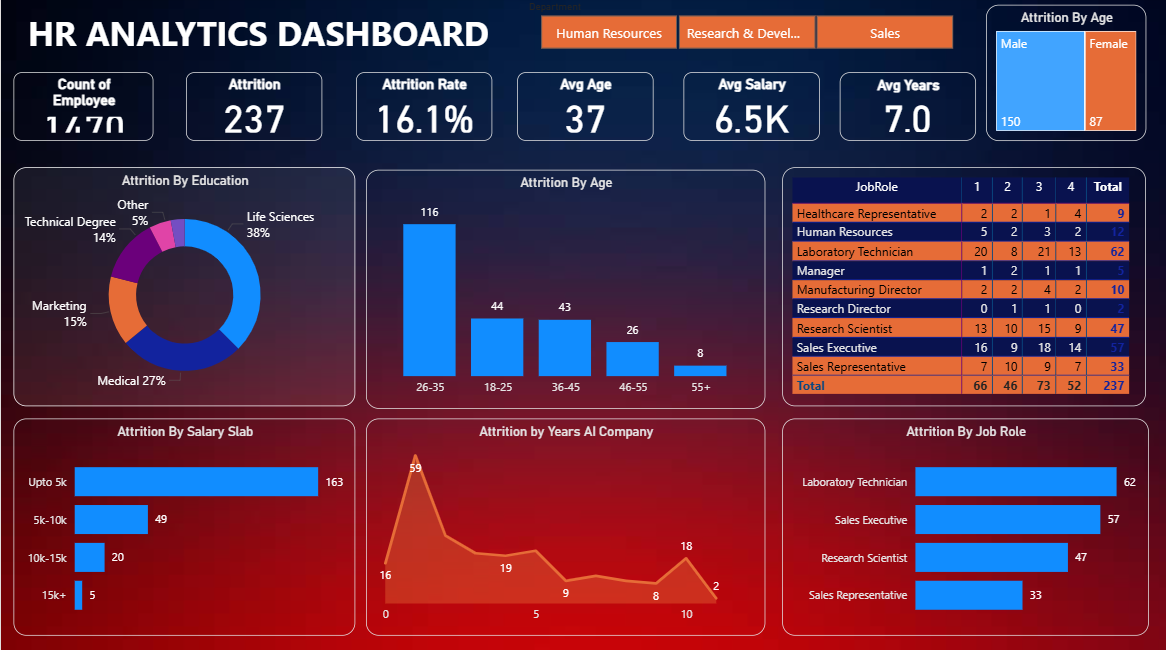

Layout of this report page (visuals, bound fields, positions):
{"tool":"powerbi","page":{"name":"Page 1","canvas":[1280,720],"ordinal":0},"visuals":[{"type":"card","title":"Count of Employee","fields":{"Values":["CountNonNull(HR_Analytics.EmpID)"]},"box":[14.1,83.3,154,75.4],"z":0},{"type":"card","title":"Attrition","fields":{"Values":["Sum(HR_Analytics.AttritionCount)"]},"box":[202.7,83.3,149.2,75.4],"z":1000},{"type":"card","title":"Attrition Rate","fields":{"Values":["HR_Analytics.AttritionRate"]},"box":[389.6,83.3,149.2,75.4],"z":2000},{"type":"card","title":"Avg Age","fields":{"Values":["Avg(HR_Analytics.Age)"]},"box":[567.1,83.3,149.2,75.4],"z":3000},{"type":"card","title":"Avg Salary","fields":{"Values":["Avg(HR_Analytics.MonthlyIncome)"]},"box":[749.3,83.3,149.2,75.4],"z":4000},{"type":"card","title":"Avg Years","fields":{"Values":["Avg(HR_Analytics.YearsAtCompany)"]},"box":[920.6,83.3,149.2,75.4],"z":5000},{"type":"donutChart","title":"Attrition By Education","fields":{"Category":["HR_Analytics.EducationField"],"Y":["Sum(HR_Analytics.AttritionCount)"]},"box":[14.1,188.5,375.5,262.3],"z":6000},{"type":"columnChart","title":"Attrition By Age","fields":{"Category":["HR_Analytics.AgeGroup"],"Y":["Sum(HR_Analytics.AttritionCount)"]},"box":[400.6,190.1,438.3,262.3],"z":7000},{"type":"pivotTable","fields":{"Rows":["HR_Analytics.JobRole"],"Columns":["HR_Analytics.JobSatisfaction"],"Values":["Sum(HR_Analytics.AttritionCount)"]},"box":[857.7,188.5,399,262.3],"z":8000},{"type":"barChart","title":"Attrition By Salary Slab","fields":{"Category":["HR_Analytics.SalarySlab"],"Y":["Sum(HR_Analytics.AttritionCount)"]},"box":[14.1,463.4,375.5,238.8],"z":9000},{"type":"clusteredBarChart","title":"Attrition By Job Role","fields":{"Category":["HR_Analytics.JobRole"],"Y":["Sum(HR_Analytics.AttritionCount)"]},"box":[857.7,463.4,402.2,238.8],"z":10000},{"type":"areaChart","title":"Attrition by Years AI Company","fields":{"Category":["HR_Analytics.YearsAtCompany"],"Y":["Sum(HR_Analytics.AttritionCount)"]},"box":[400.6,463.4,438.3,238.8],"z":11000},{"type":"treemap","title":"Attrition By Age","fields":{"Group":["HR_Analytics.Gender"],"Values":["Sum(HR_Analytics.AttritionCount)"]},"box":[1080.8,9.4,175.9,149.2],"z":12000},{"type":"slicer","fields":{"Values":["HR_Analytics.Department"]},"box":[567.1,0,502.7,64.4],"z":13000},{"type":"textbox","box":[25.1,9.4,584.4,64.4],"z":14000}]}

Visuals, with their boxes in screenshot pixels (x1, y1, x2, y2), scaled from the page's 1280x720 canvas onto the 1166x650 screenshot:
"Count of Employee" card: region(13, 75, 153, 143)
"Attrition" card: region(185, 75, 321, 143)
"Attrition Rate" card: region(355, 75, 491, 143)
"Avg Age" card: region(517, 75, 653, 143)
"Avg Salary" card: region(683, 75, 818, 143)
"Avg Years" card: region(839, 75, 975, 143)
"Attrition By Education" donutChart: region(13, 170, 355, 407)
"Attrition By Age" columnChart: region(365, 172, 764, 408)
pivotTable - HR_Analytics.JobRole x HR_Analytics.JobSatisfaction: region(781, 170, 1145, 407)
"Attrition By Salary Slab" barChart: region(13, 418, 355, 634)
"Attrition By Job Role" clusteredBarChart: region(781, 418, 1148, 634)
"Attrition by Years AI Company" areaChart: region(365, 418, 764, 634)
"Attrition By Age" treemap: region(985, 8, 1145, 143)
slicer - HR_Analytics.Department: region(517, 0, 975, 58)
textbox: region(23, 8, 555, 67)
